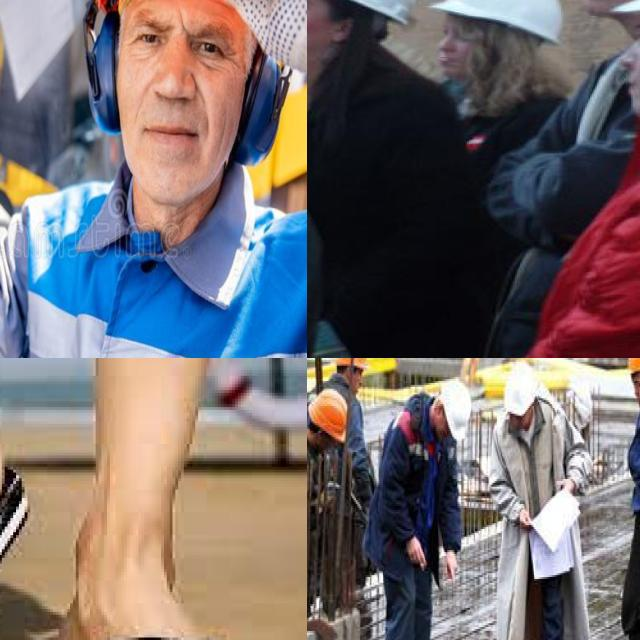Ear-protection: (83, 0, 290, 220)
No_Ear-Protection: (331, 13, 358, 52)
No_Glasses: (122, 0, 229, 81), (610, 12, 640, 58), (432, 22, 476, 43)
Sandals: (66, 519, 307, 640)
face_nomask: (436, 33, 471, 80), (623, 46, 640, 116)
hand_noglove: (406, 535, 428, 575), (443, 550, 460, 589), (516, 508, 538, 537)
head_helmet: (429, 0, 569, 52), (307, 0, 426, 34), (308, 388, 352, 441), (439, 377, 473, 443), (505, 360, 539, 414), (333, 358, 369, 369)
person: (0, 0, 307, 358), (489, 358, 580, 640), (380, 375, 467, 640), (321, 358, 380, 532), (307, 390, 348, 598), (619, 358, 640, 640)
